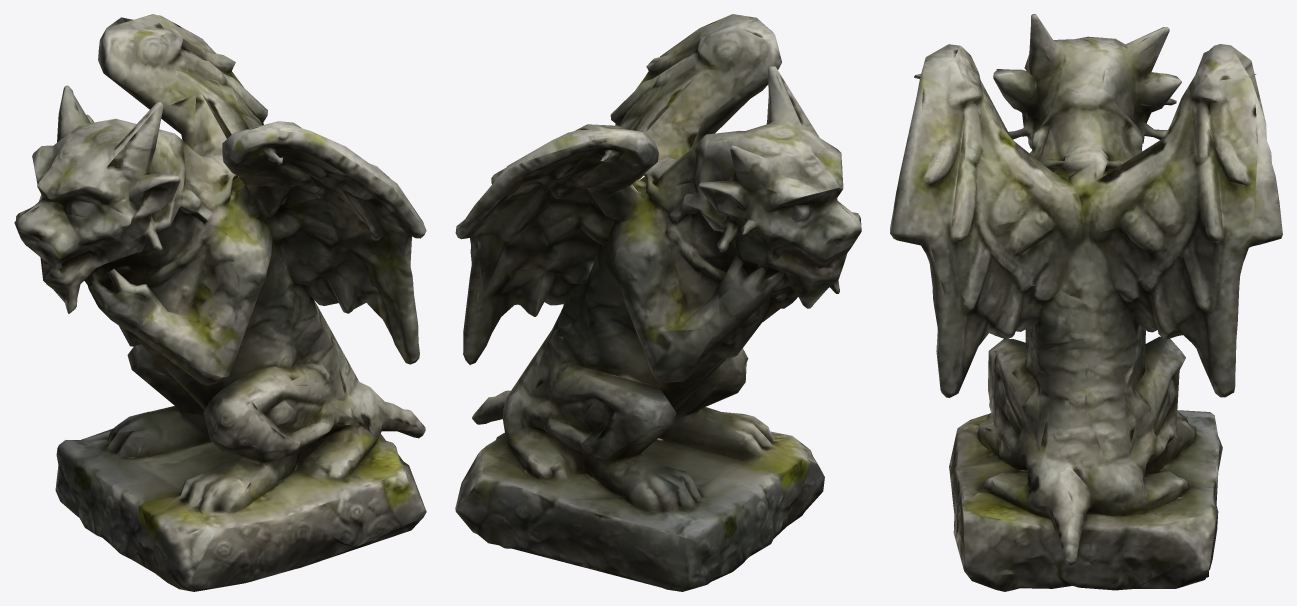
File: hstatue.glb
3 views of the same model, side by side, from view 1: azimuth 30°, elevation 25°; view 2: azimuth 150°, elevation 25°; view 3: azimuth 270°, elevation 25° (orthographic).
Parts seen in each view (by area): view 1: tripo_node_287d6dfb; view 2: tripo_node_287d6dfb; view 3: tripo_node_287d6dfb.
Part boxes in pixels (<box>): tripo_node_287d6dfb: <box>14,14,426,591</box>; tripo_node_287d6dfb: <box>455,14,861,591</box>; tripo_node_287d6dfb: <box>890,14,1282,591</box>.
Size of the model in its own units: 88.94 by 99.13 by 75.8.
Materials: 1 (1 with a texture image).
